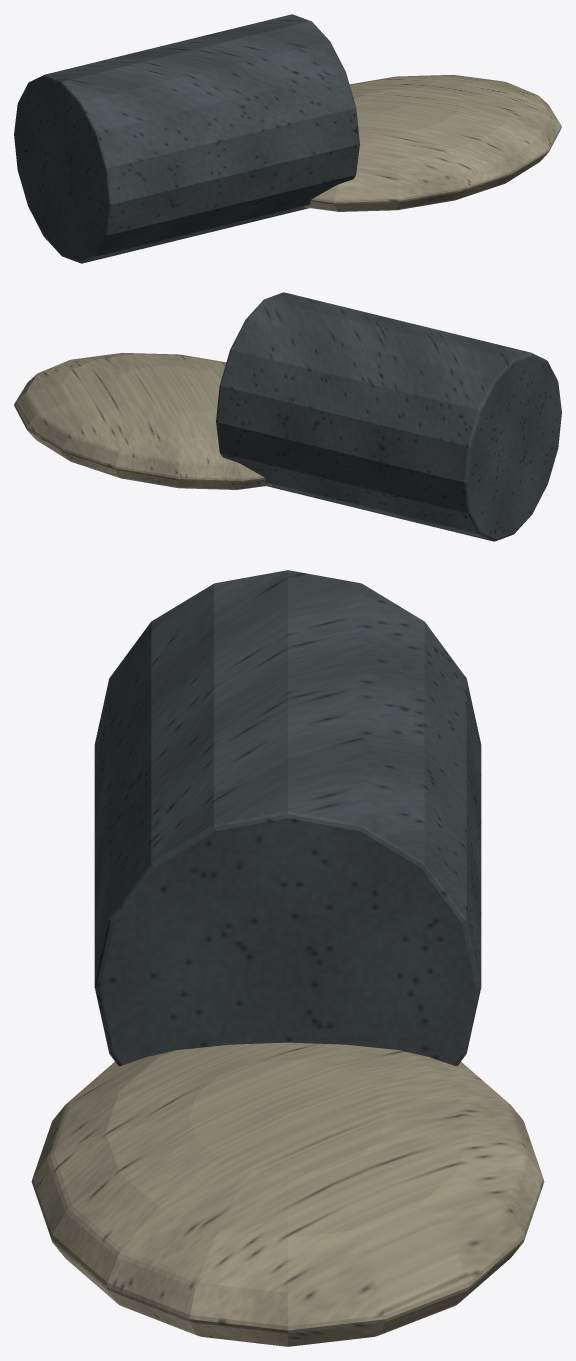
File: PROP-78013D8C2257_lod0.glb
3 views of the same model, one above another, from view 1: azimuth 30°, elevation 25°; view 2: azimuth 150°, elevation 25°; view 3: azimuth 270°, elevation 25° (orthographic). The views are drawn at different scales.
Parts seen in each view (by area): view 1: fallen_can, spilled_rubbish; view 2: fallen_can, spilled_rubbish; view 3: fallen_can, spilled_rubbish.
Part boxes in pixels (x1,y1,x2,y2): fallen_can: [14, 14, 359, 263]; spilled_rubbish: [304, 74, 561, 211]; fallen_can: [216, 292, 561, 541]; spilled_rubbish: [14, 352, 271, 489]; fallen_can: [94, 570, 481, 1066]; spilled_rubbish: [31, 1042, 544, 1346].
Bounding box in the file's own units: 1.75 × 0.61 × 0.795.
2 materials, 2 textured.
